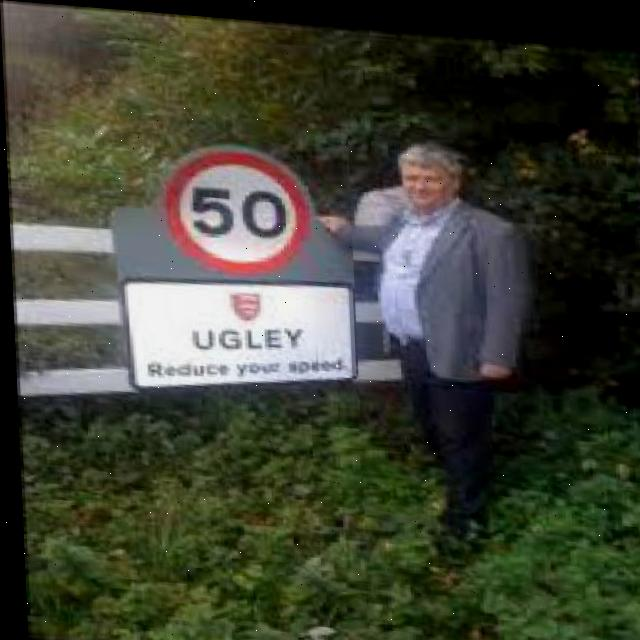Speed limit 50: (156, 135, 314, 278)
